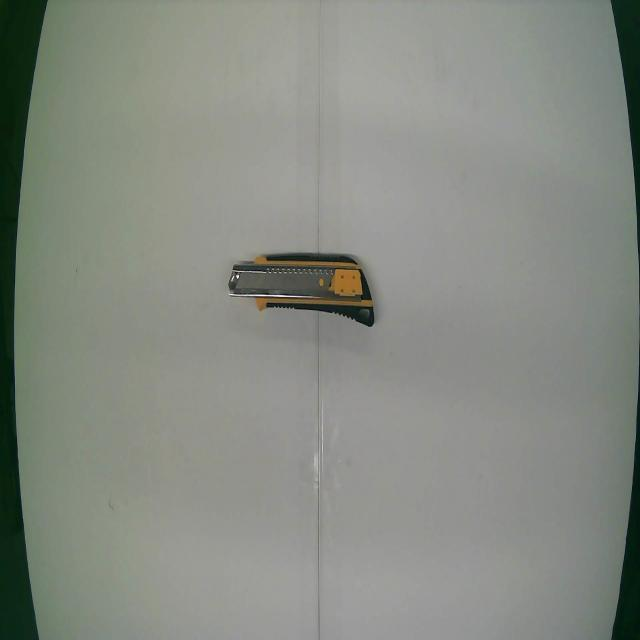estilete: (228, 254, 373, 326)
